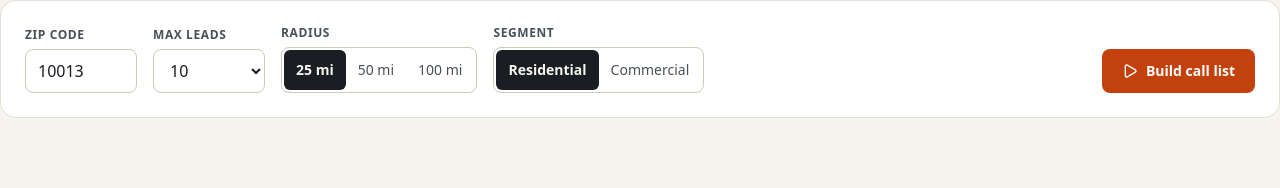
Test case: RunPanel form › explains a backend that cannot be reached when starting
The image size is (1280, 188).
Click the button "Build call list" at [1178, 71], box x1=1102 y1=49 x2=1255 y2=93
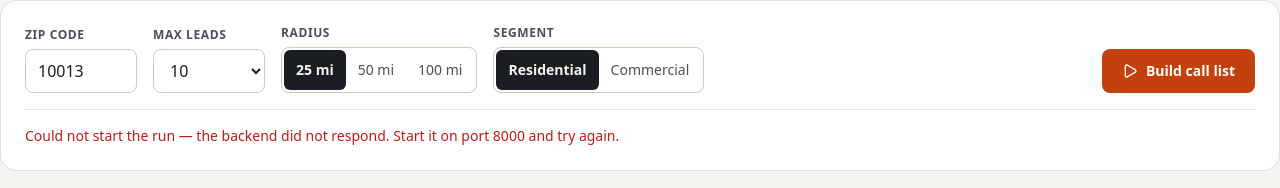
Result: the message shows "port 8000" at x1=25 y1=126 x2=619 y2=145
